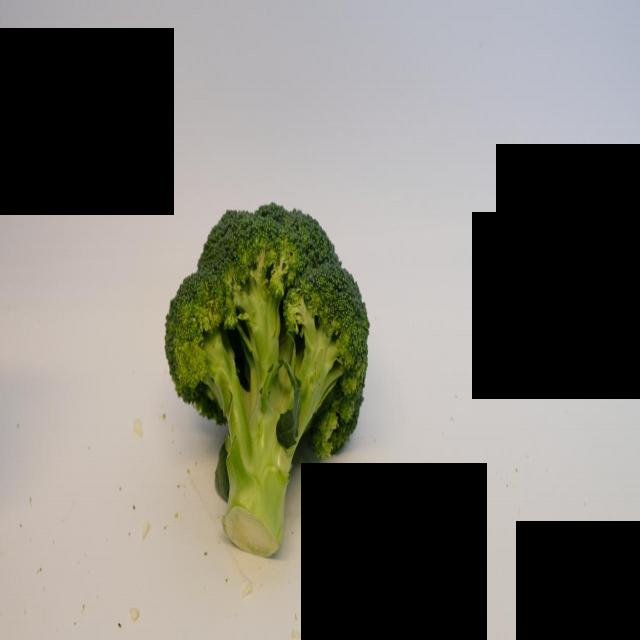broccoli: (159, 172, 369, 580)
